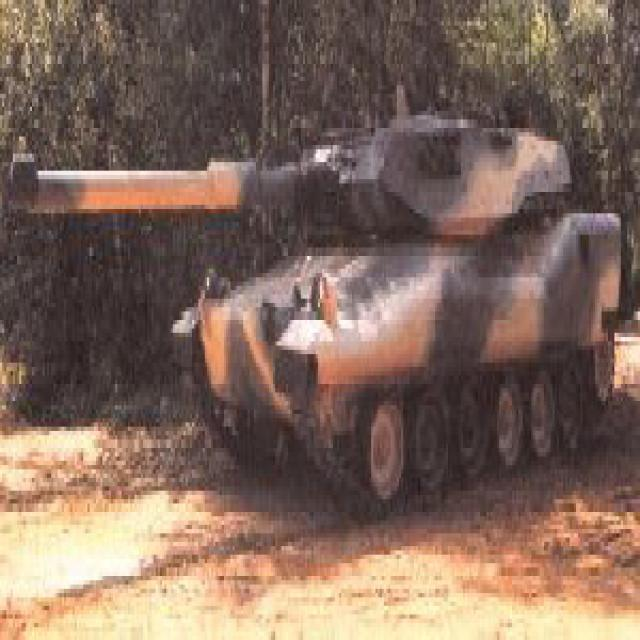Tank: (26, 85, 618, 475)
